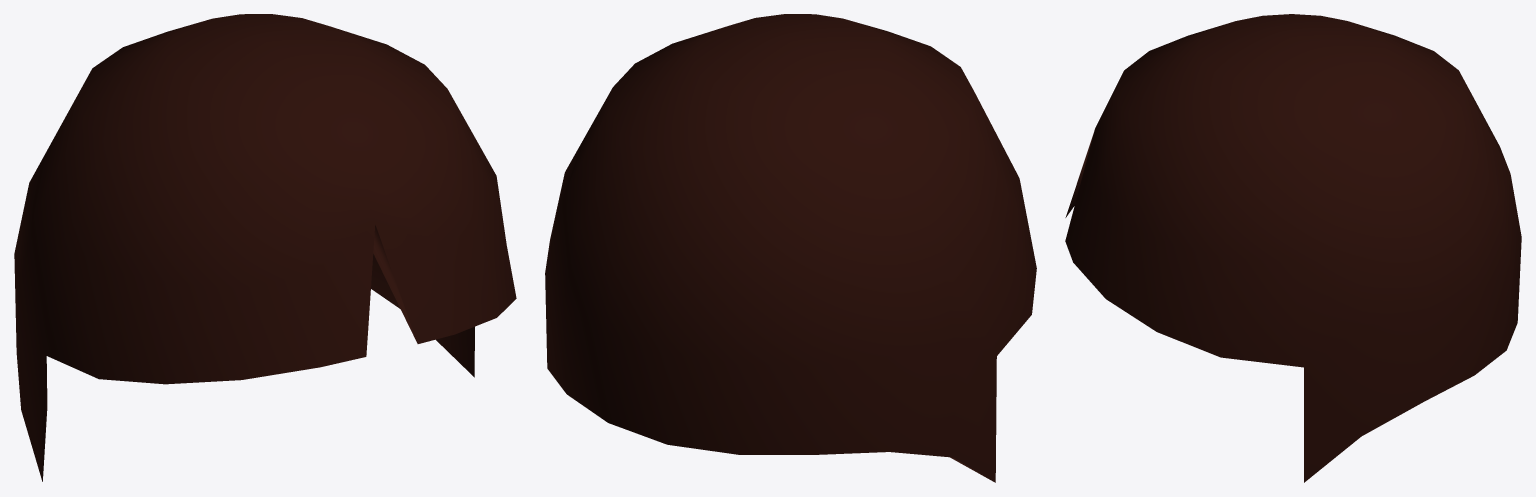
File: Hair02.FBX
3 renders of one model, left to right at view 1: azimuth 30°, elevation 25°; view 2: azimuth 150°, elevation 25°; view 3: azimuth 270°, elevation 25°, orthographic. The views are drawn at different scales.
Parts seen in each view (by area): view 1: Hair02; view 2: Hair02; view 3: Hair02.
Boxes of the visible parts, x1,y1,x2,y2 form: Hair02: (14,14,516,481); Hair02: (545,14,1036,482); Hair02: (1065,14,1521,482).
Size of the model in its own units: 452 by 392 by 460.
